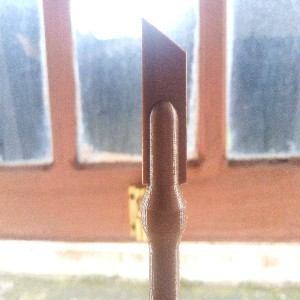cutter: (139, 13, 190, 300)
